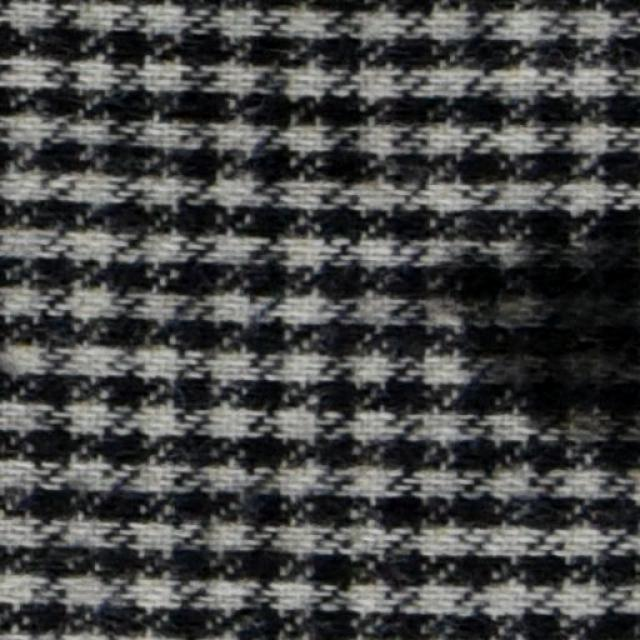Stain: (455, 192, 638, 477)
